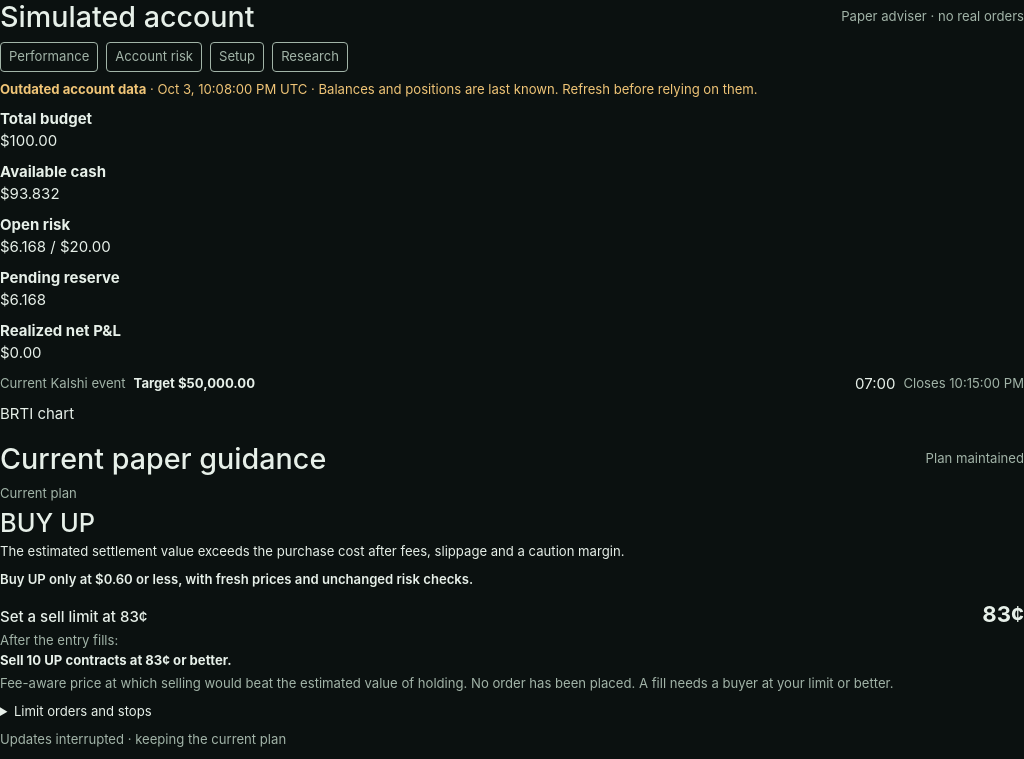
Test: failed refreshes label cached balances, positions and performance as last known
Check: the text "Balances and positions are last known" is shown, box [307,81,758,97]
Check: the text "$93.832" is shown, box [0,184,60,203]
Click the button "Performance": (49, 57) [0,42,98,72]
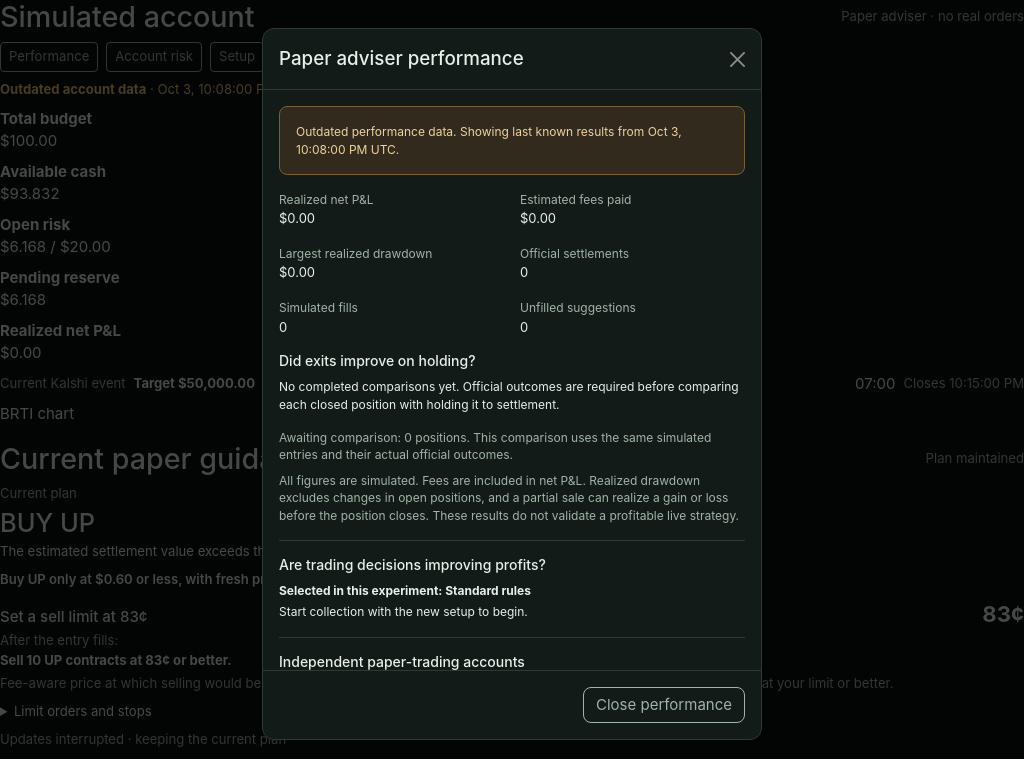
Check: the 1st message shows "Outdated performance data", box [296,124,644,139]
